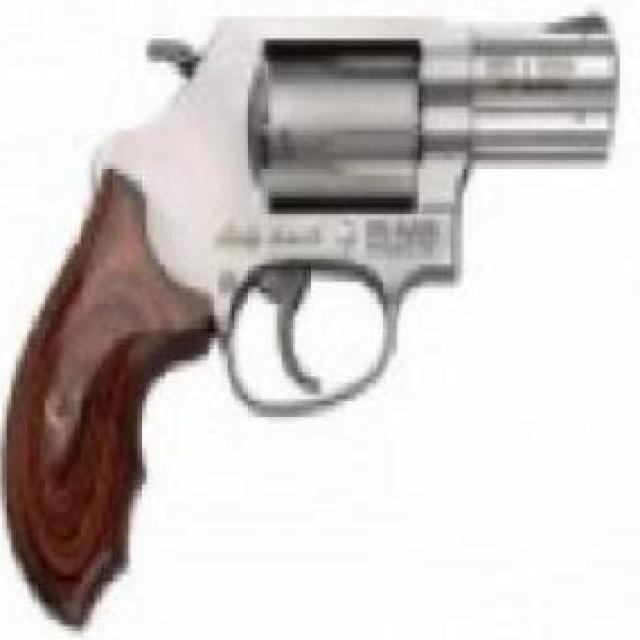pistol: (2, 0, 608, 626)
